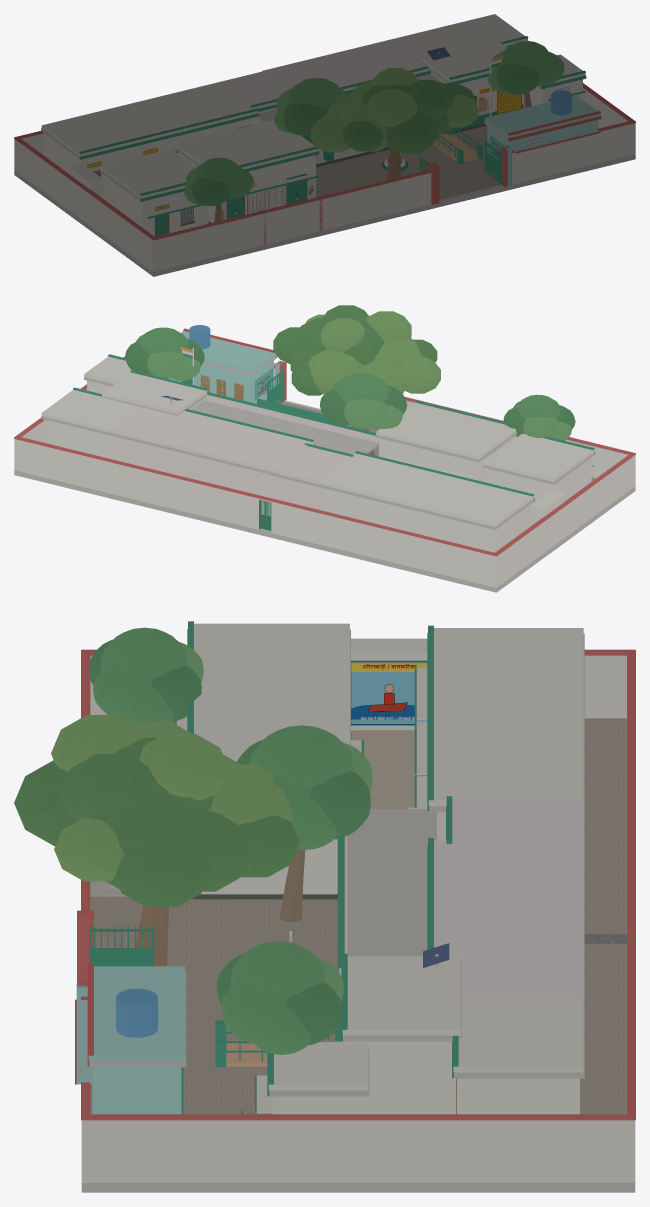
Rendered from school_campus.glb.
The picture shows the model from 3 angles, top to bottom: view 1: azimuth 30°, elevation 25°; view 2: azimuth 150°, elevation 25°; view 3: azimuth 270°, elevation 25°; orthographic projection. The views are drawn at different scales.
Visible parts, largest first — view 1: campus; view 2: campus; view 3: campus.
Boxes of the visible parts, x1,y1,x2,y2 form: campus: (14, 14, 635, 276); campus: (14, 305, 635, 592); campus: (14, 621, 635, 1192).
Size of the model in its own units: 36.04 by 8.8 by 20.22.
Materials: 80 (30 with a texture image).
